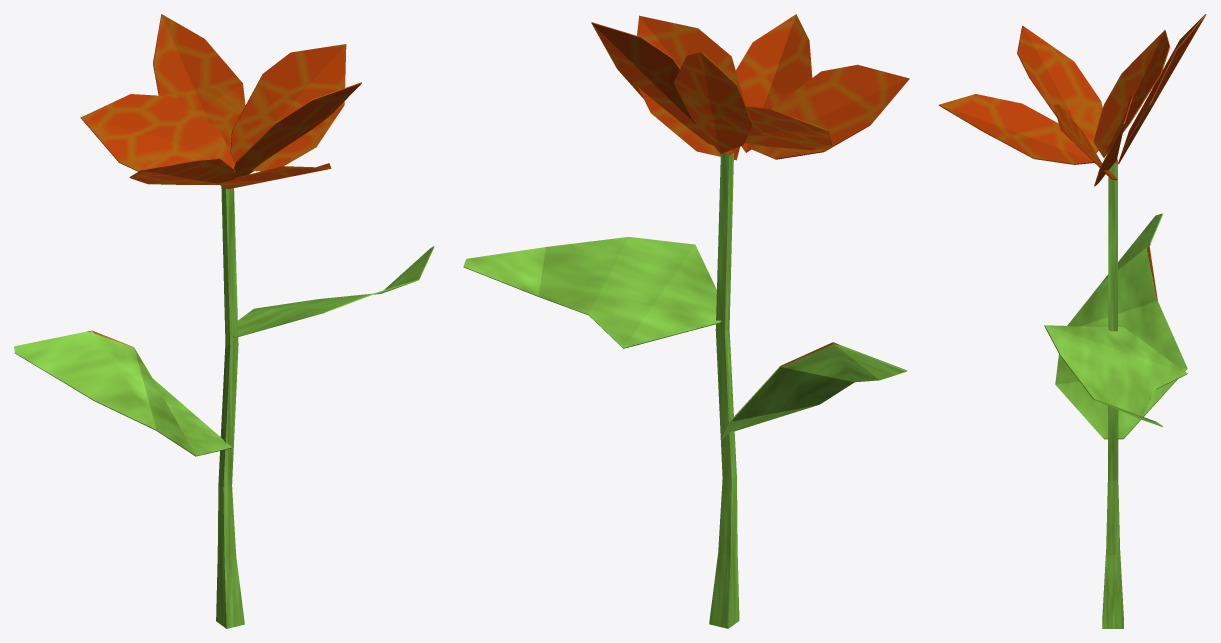
File: RedFlower.fbx
The picture shows the model from 3 angles, left to right: view 1: azimuth 30°, elevation 25°; view 2: azimuth 150°, elevation 25°; view 3: azimuth 270°, elevation 25°; orthographic projection. The views are drawn at different scales.
Parts seen in each view (by area): view 1: Cube.010; view 2: Cube.010; view 3: Cube.010.
Boxes of the visible parts, x1,y1,x2,y2 form: Cube.010: (14, 14, 434, 628); Cube.010: (463, 14, 909, 628); Cube.010: (938, 14, 1206, 628).
Size of the model in its own units: 0.5491 by 0.7271 by 0.2952.
1 material, 1 textured.
